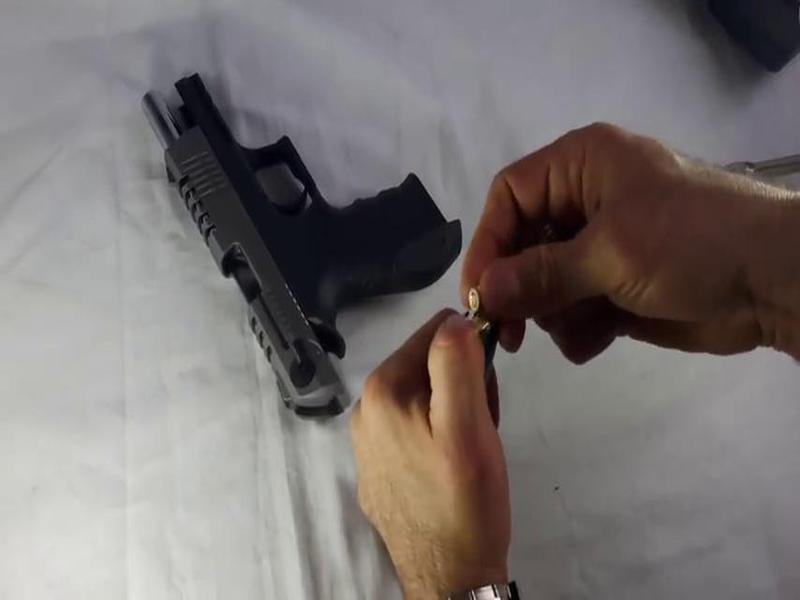Pistola: (134, 62, 468, 424)
